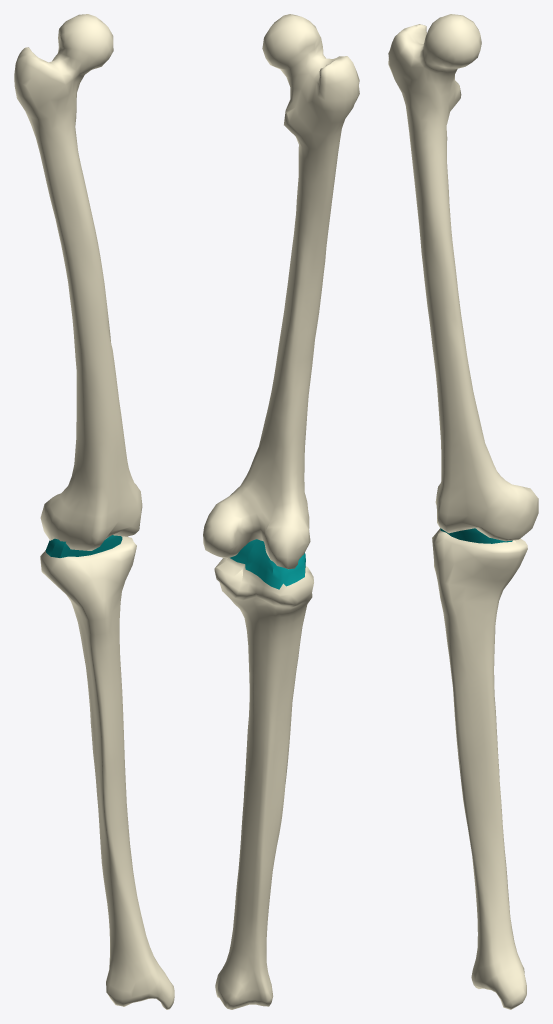
The model's file is Cartilage.fbx.
The picture shows the model from 3 angles, left to right: view 1: azimuth 30°, elevation 25°; view 2: azimuth 150°, elevation 25°; view 3: azimuth 330°, elevation 25°; orthographic projection. The views are drawn at different scales.
Parts seen in each view (by area): view 1: polySurface5, polySurface4; view 2: polySurface5, polySurface4; view 3: polySurface5, polySurface4.
Boxes of the visible parts, bbox=[...] form: polySurface5: bbox=[14, 14, 142, 550]; polySurface4: bbox=[40, 535, 174, 1009]; polySurface5: bbox=[203, 14, 359, 569]; polySurface4: bbox=[214, 539, 313, 1009]; polySurface5: bbox=[388, 14, 538, 541]; polySurface4: bbox=[432, 528, 527, 1009].
Bounding box in the file's own units: 17.07 × 112 × 9.58.
